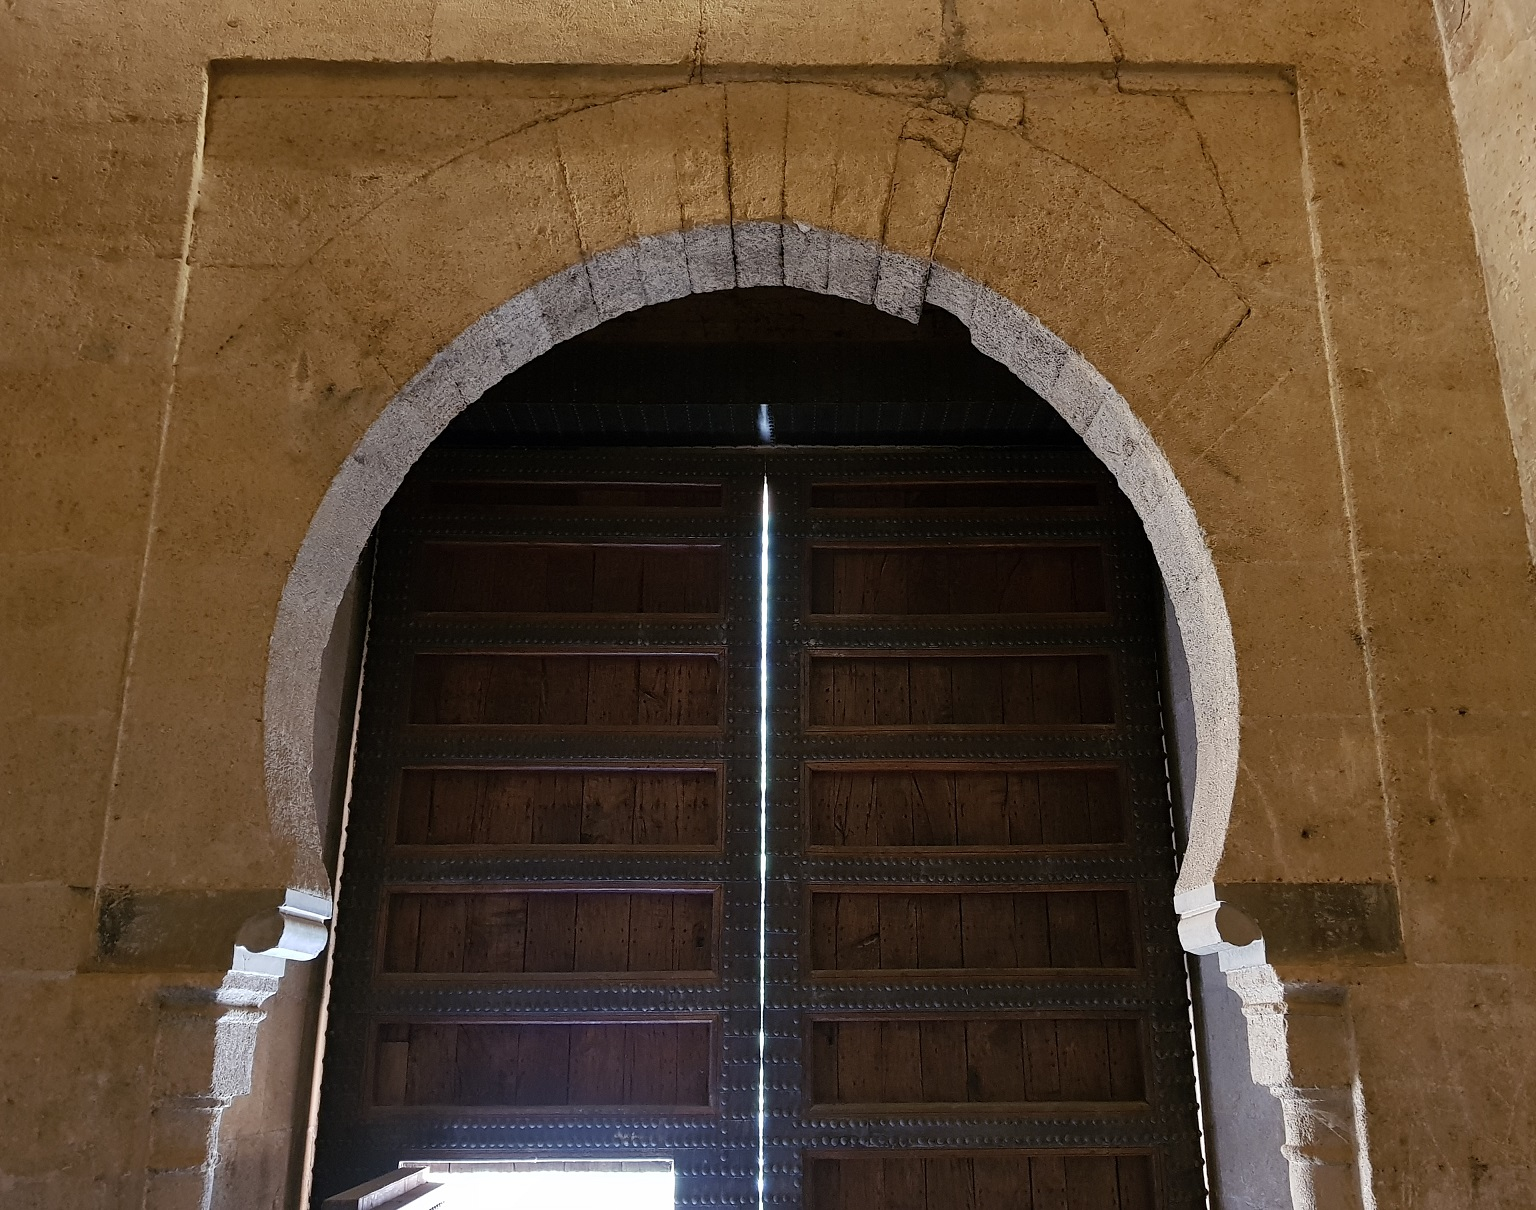arco-herradura: (188, 178, 1315, 1090)
